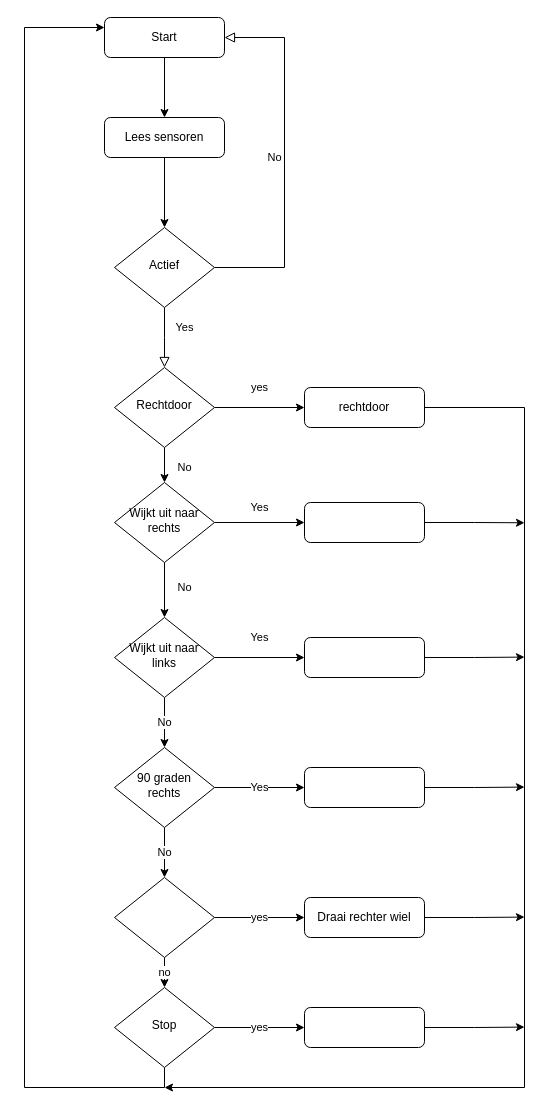
This 550x1113 diagram has some shape labels left out. Here are the shapes that lost their labels. From the top down, the centre of each, then its label:
At (x=364, y=522): "Draai links".
At (x=364, y=657): "Draai rechts".
At (x=364, y=787): "Draai linker wiel".
At (x=164, y=917): "90 graden links".
At (x=364, y=1027): "Alles uit".
